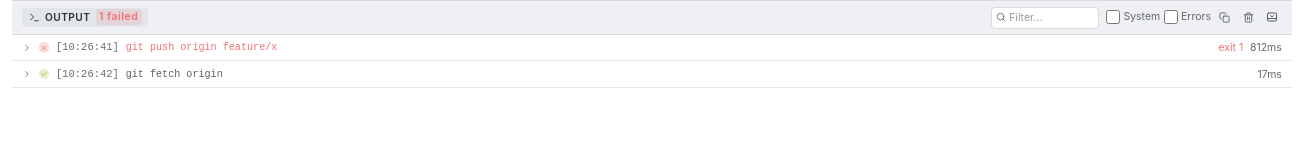
Test: CommandLogPanel — Commands tab (raw git output) › "Errors only" hides successful commands
The image size is (1304, 160).
Expected: the text "git push origin feature/x" is shown, [126,42,277,53]
Expected: the text "git fetch origin" is shown, [126,69,223,80]
Click the label titled "Show only failed commands (non-zero exit code)" at (1187, 17), box [1164,9,1211,25]
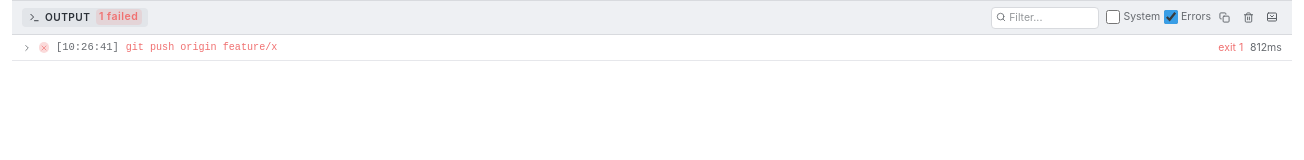
Expected: the text "git push origin feature/x" is shown, [126,42,277,53]
Now the button "git fetch origin" is gone
